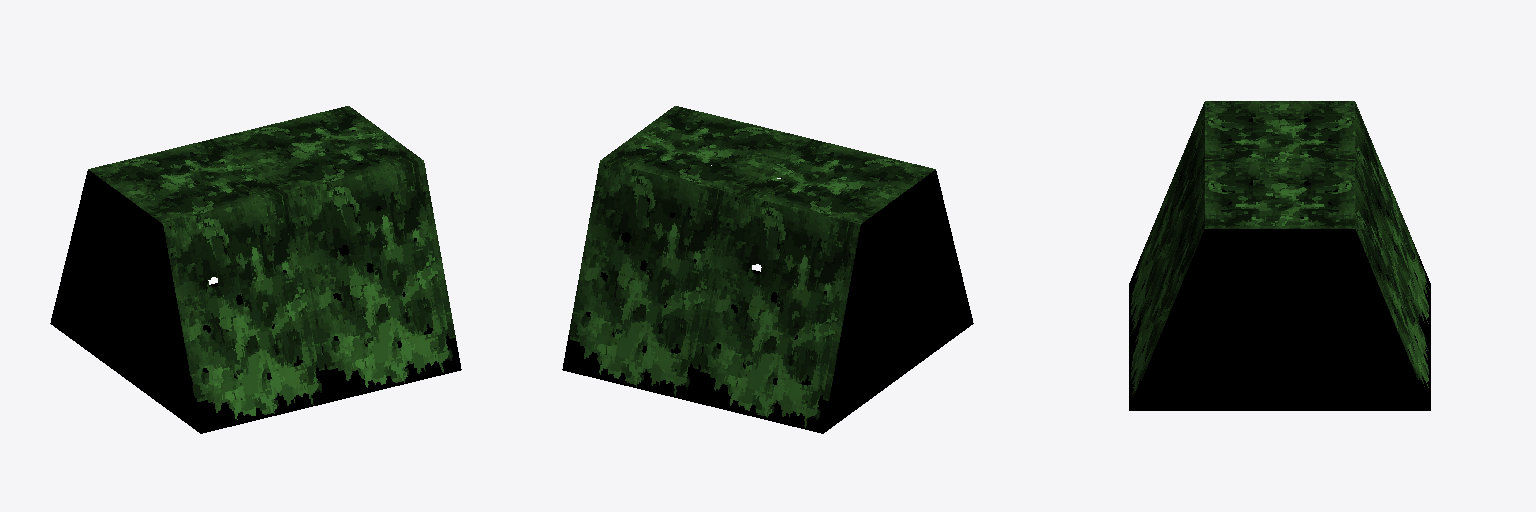
The picture shows the model from 3 angles: view 1: azimuth 30°, elevation 25°; view 2: azimuth 150°, elevation 25°; view 3: azimuth 270°, elevation 25°; orthographic projection.
Visible parts, largest first — view 1: Object.1; view 2: Object.1; view 3: Object.1.
Boxes of the visible parts, x1=… form: Object.1: x1=50, y1=106, x2=461, y2=433; Object.1: x1=562, y1=106, x2=973, y2=433; Object.1: x1=1129, y1=101, x2=1430, y2=410.
Bounding box in the file's own units: 1 × 0.6666 × 1.
3 materials, 2 textured.